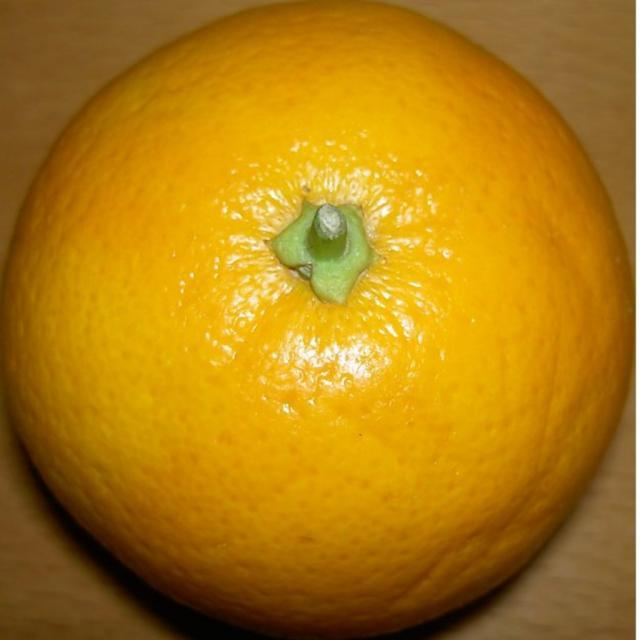Orange: (1, 0, 634, 638)
